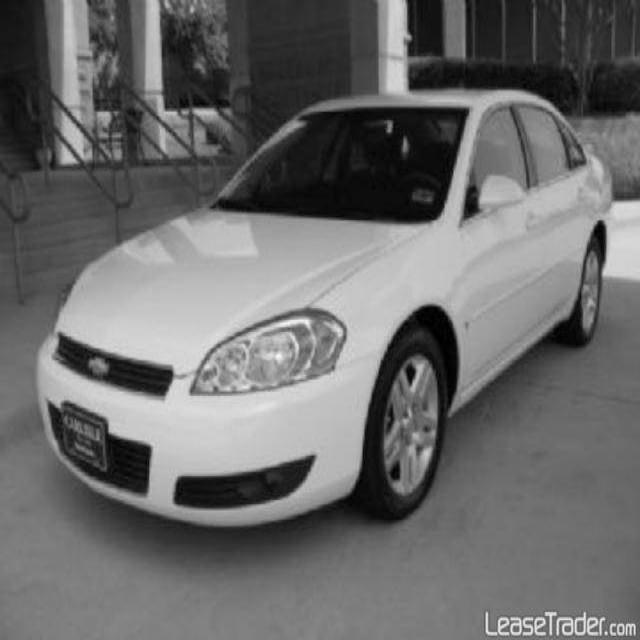car: (35, 85, 614, 531)
plat_license: (45, 393, 116, 480)
